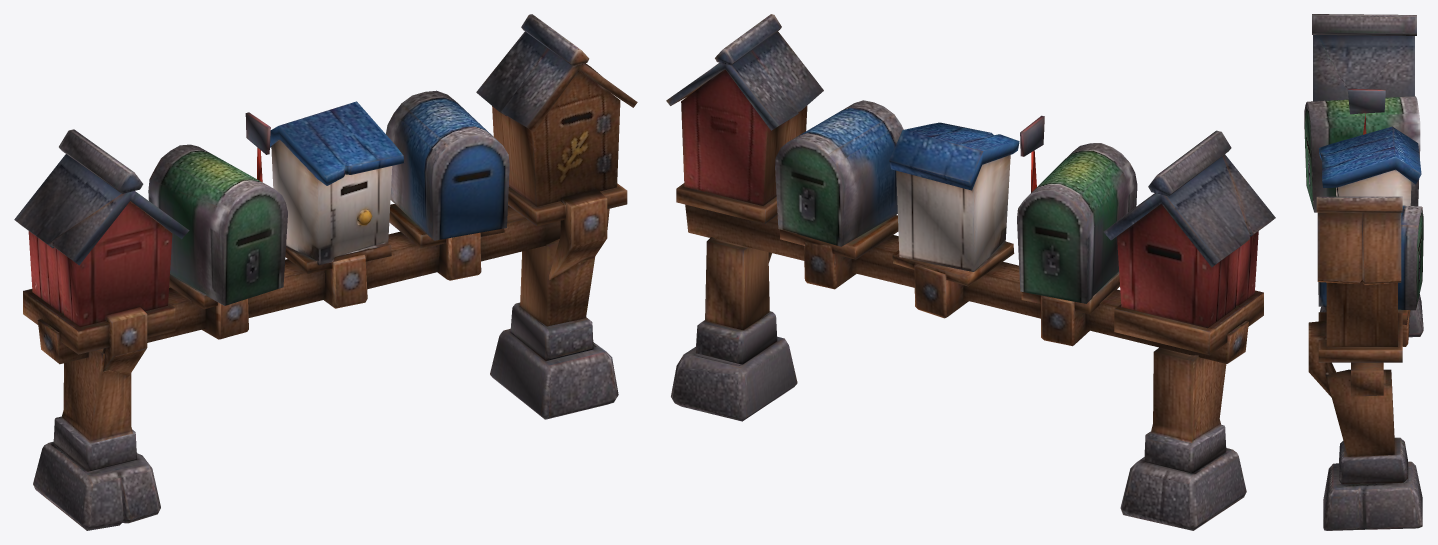
The model's file is mailbox-set-tripo-01.glb.
3 views of the same model, side by side, from view 1: azimuth 30°, elevation 25°; view 2: azimuth 150°, elevation 25°; view 3: azimuth 270°, elevation 25° (orthographic). The views are drawn at different scales.
Parts seen in each view (by area): view 1: tripo_node_7d5be926-e102-4ed9-8991-9bec36ef30b8; view 2: tripo_node_7d5be926-e102-4ed9-8991-9bec36ef30b8; view 3: tripo_node_7d5be926-e102-4ed9-8991-9bec36ef30b8.
Boxes of the visible parts, <box> form: tripo_node_7d5be926-e102-4ed9-8991-9bec36ef30b8: <box>14,14,637,530</box>; tripo_node_7d5be926-e102-4ed9-8991-9bec36ef30b8: <box>666,14,1275,530</box>; tripo_node_7d5be926-e102-4ed9-8991-9bec36ef30b8: <box>1304,14,1423,530</box>.
Bounding box in the file's own units: 0.998 × 0.6152 × 0.209.
1 material, 1 textured.
